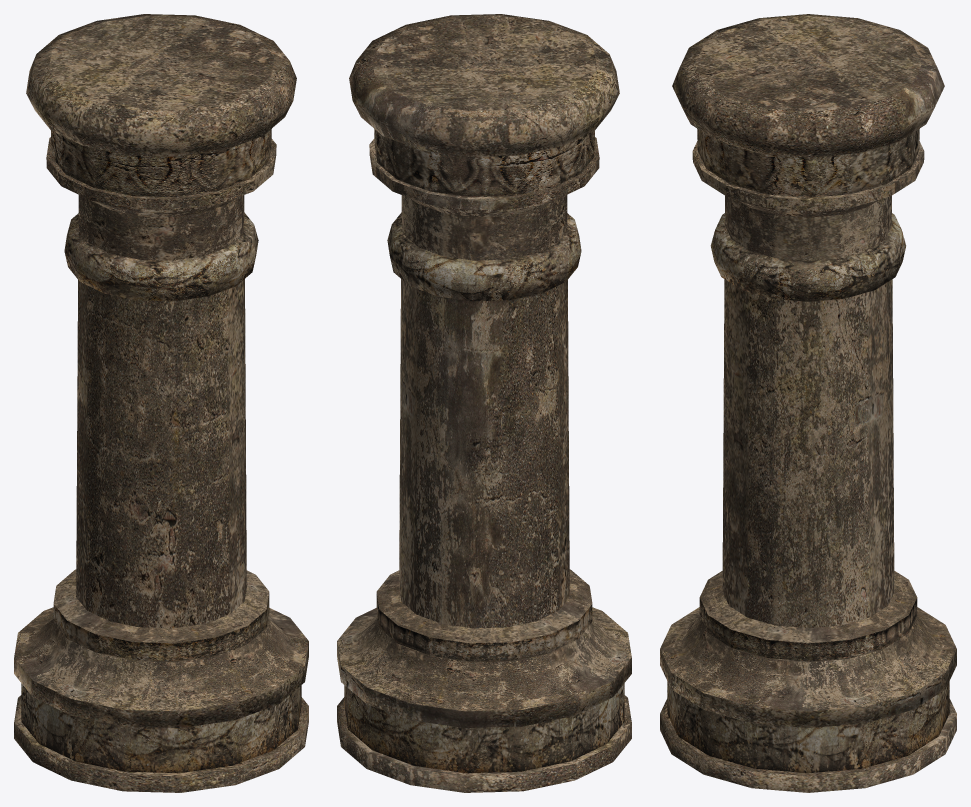
Rendered from materials_5_pillar_short_0.fbx.
3 views of the same model, side by side, from view 1: azimuth 30°, elevation 25°; view 2: azimuth 150°, elevation 25°; view 3: azimuth 270°, elevation 25° (orthographic).
Visible parts, largest first — view 1: materials_5_pillar_short_0; view 2: materials_5_pillar_short_0; view 3: materials_5_pillar_short_0.
Part boxes in pixels (box(x1,y1,x2,y2)): materials_5_pillar_short_0: box(14, 14, 308, 792); materials_5_pillar_short_0: box(337, 14, 631, 792); materials_5_pillar_short_0: box(660, 14, 956, 792).
Bounding box in the file's own units: 60.79 × 151 × 60.79.
